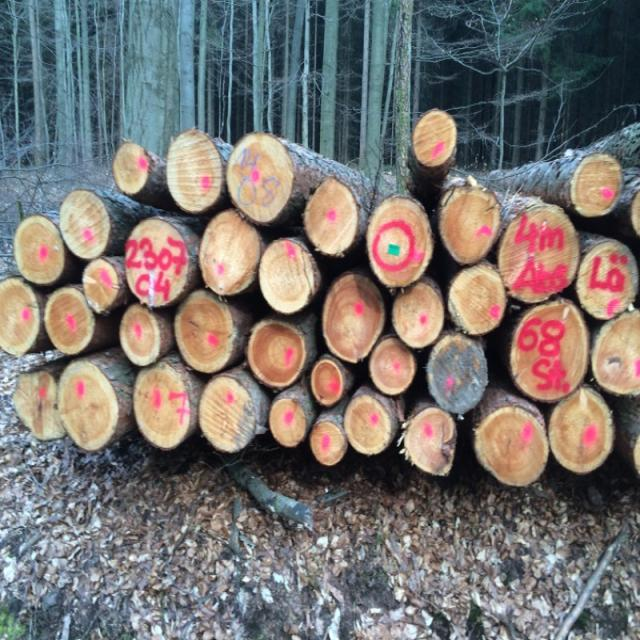wood-log: (513, 301, 592, 404), (498, 206, 581, 304), (124, 215, 194, 305), (472, 405, 548, 487), (367, 193, 434, 286), (224, 136, 292, 227), (320, 271, 386, 361), (546, 388, 613, 474), (134, 360, 200, 447), (58, 361, 119, 453), (200, 212, 262, 298), (175, 291, 240, 372), (425, 332, 487, 415), (574, 243, 637, 321), (166, 130, 224, 214), (440, 184, 502, 262), (198, 375, 259, 454), (259, 238, 319, 314), (448, 266, 510, 338), (302, 178, 359, 256), (588, 309, 638, 396), (247, 322, 306, 390), (11, 365, 62, 438), (391, 281, 444, 351), (59, 190, 112, 260), (46, 288, 98, 358), (405, 407, 456, 475), (12, 218, 62, 286), (570, 154, 622, 218), (0, 280, 41, 358), (344, 395, 396, 456), (366, 335, 414, 394), (411, 112, 459, 170), (120, 306, 162, 367), (82, 259, 125, 313), (113, 143, 154, 198), (270, 398, 309, 447), (309, 360, 348, 408), (309, 420, 347, 465), (630, 190, 640, 237), (632, 434, 640, 478)
